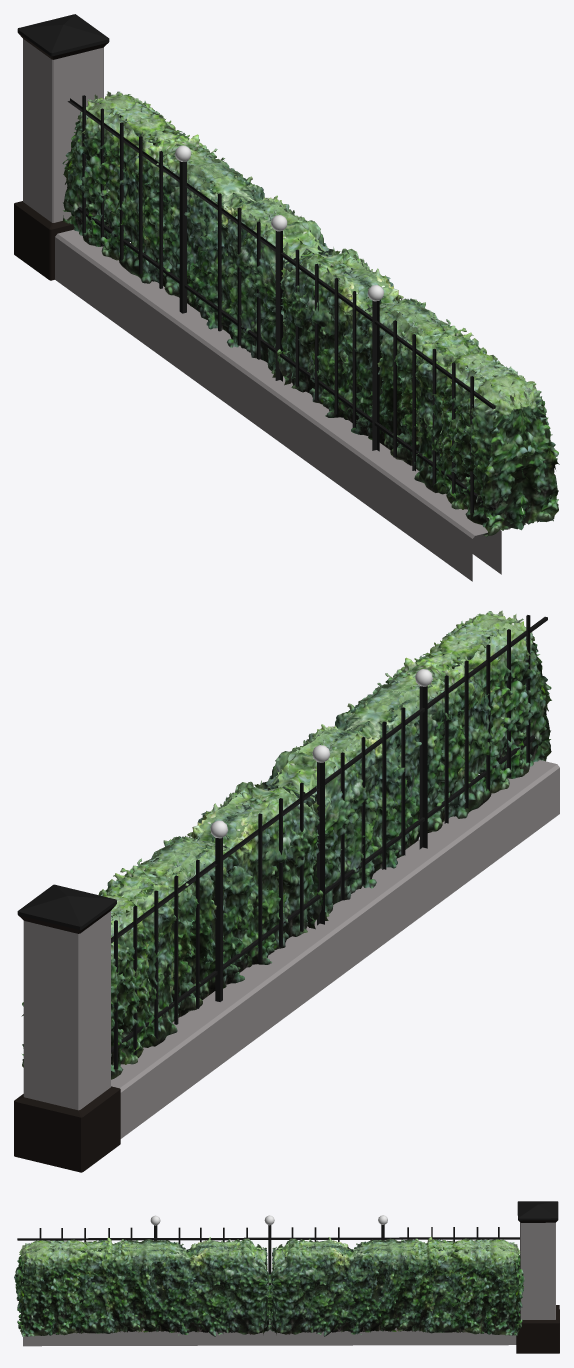
Rendered from hedge_green_fence.glb.
3 views of the same model, one above another, from view 1: azimuth 30°, elevation 25°; view 2: azimuth 150°, elevation 25°; view 3: azimuth 270°, elevation 25° (orthographic). The views are drawn at different scales.
Visible parts, largest first — view 1: LONG skinny 1 mesh hedge; view 2: LONG skinny 1 mesh hedge; view 3: LONG skinny 1 mesh hedge.
Part boxes in pixels (x1,y1,x2,y2): LONG skinny 1 mesh hedge: [14, 14, 559, 581]; LONG skinny 1 mesh hedge: [14, 610, 559, 1172]; LONG skinny 1 mesh hedge: [14, 1201, 559, 1353].
Bounding box in the file's own units: 83.14 × 194 × 686.
Materials: 5 (1 with a texture image).
